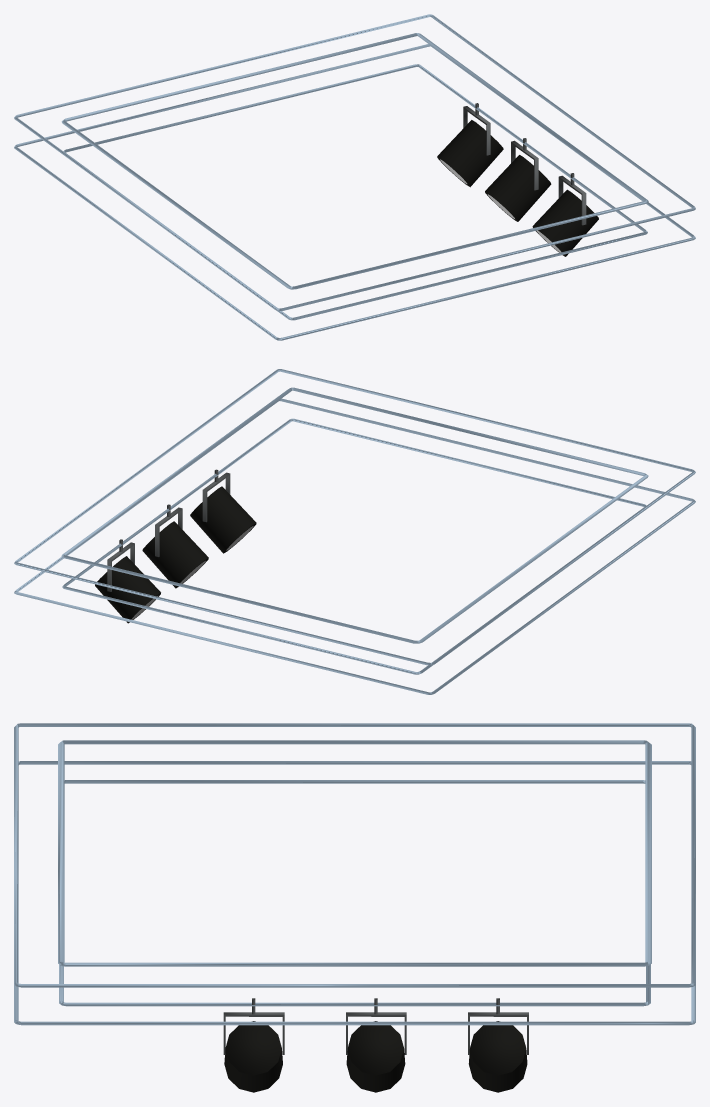
Rendered from ACT_LightFrame.fbx.
The picture shows the model from 3 angles, top to bottom: view 1: azimuth 30°, elevation 25°; view 2: azimuth 150°, elevation 25°; view 3: azimuth 270°, elevation 25°; orthographic projection. The views are drawn at different scales.
Visible parts, largest first — view 1: Cube.438, Cylinder.036; view 2: Cube.438, Cylinder.036; view 3: Cube.438, Cylinder.036.
Boxes of the visible parts, box(x1,y1,x2,y2) form: Cube.438: box(14, 14, 695, 340); Cylinder.036: box(437, 103, 598, 256); Cube.438: box(14, 369, 695, 694); Cylinder.036: box(95, 469, 256, 623); Cube.438: box(14, 723, 695, 1025); Cylinder.036: box(223, 998, 528, 1092).
Size of the model in its own units: 539 by 591 by 131.
